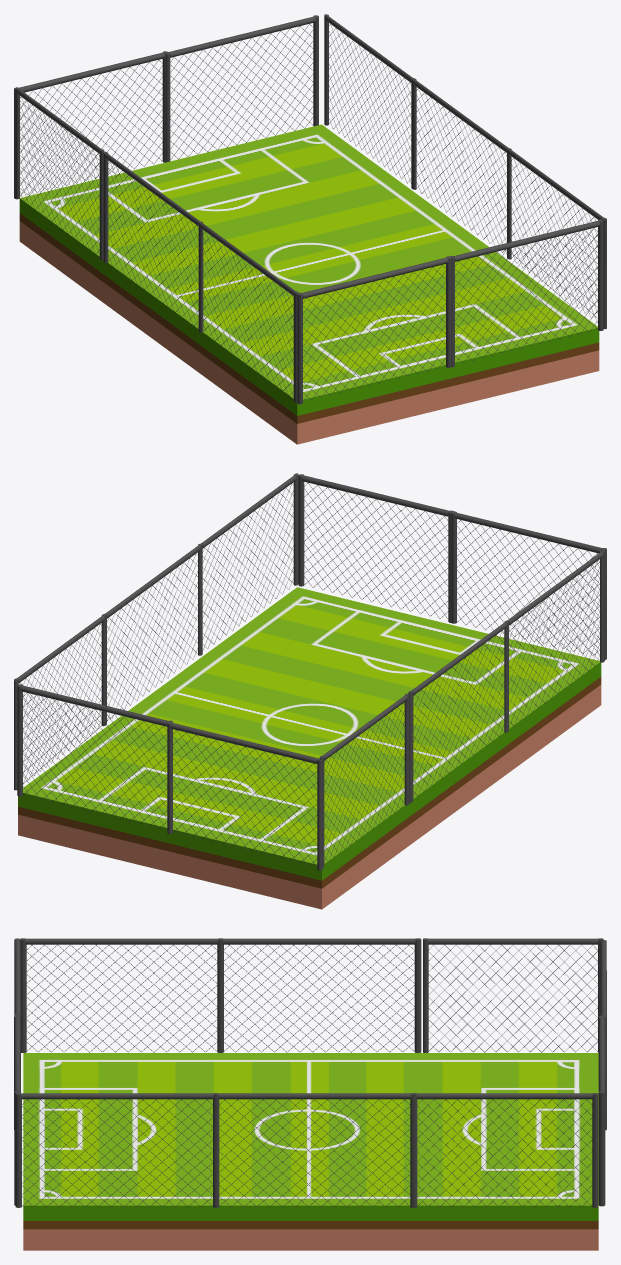
The model's file is field1.glb.
3 views of the same model, one above another, from view 1: azimuth 30°, elevation 25°; view 2: azimuth 150°, elevation 25°; view 3: azimuth 270°, elevation 25° (orthographic). The views are drawn at different scales.
Visible parts, largest first — view 1: Cube, Null_2_1__0.004, Null_2_1__0.002, Null_2_1__0.003, Null_2_1__0.005, Null_0_1__0.001, Null_2_1__0.001, Null_1_1__0.001, Null_1_1, Null_2_1, Null_0_1; view 2: Cube, Null_2_1__0.005, Null_2_1__0.003, Null_2_1__0.002, Null_2_1__0.004, Null_1_1__0.001, Null_0_1, Null_0_1__0.001, Null_1_1, Null_2_1__0.001, Null_2_1; view 3: Cube, Null_1_1__0.001, Null_0_1, Null_0_1__0.001, Null_1_1, Null_2_1, Null_2_1__0.001, Null_2_1__0.002, Null_2_1__0.003, Null_2_1__0.005, Null_2_1__0.004.
Part boxes in pixels (x1=…): Cube: x1=19, y1=124, x2=599, y2=444; Null_2_1__0.004: x1=297, y1=256, x2=451, y2=404; Null_2_1__0.002: x1=165, y1=15, x2=318, y2=162; Null_2_1__0.003: x1=450, y1=219, x2=603, y2=367; Null_2_1__0.005: x1=14, y1=51, x2=167, y2=199; Null_0_1__0.001: x1=199, y1=221, x2=298, y2=402; Null_2_1__0.001: x1=15, y1=87, x2=104, y2=260; Null_1_1__0.001: x1=103, y1=151, x2=202, y2=331; Null_1_1: x1=412, y1=78, x2=511, y2=258; Null_2_1: x1=324, y1=14, x2=415, y2=188; Null_0_1: x1=507, y1=148, x2=606, y2=329; Cube: x1=18, y1=587, x2=601, y2=909; Null_2_1__0.005: x1=167, y1=722, x2=322, y2=870; Null_2_1__0.003: x1=298, y1=474, x2=453, y2=622; Null_2_1__0.002: x1=17, y1=684, x2=172, y2=829; Null_2_1__0.004: x1=451, y1=511, x2=606, y2=659; Null_1_1__0.001: x1=408, y1=620, x2=508, y2=802; Null_0_1: x1=198, y1=473, x2=298, y2=654; Null_0_1__0.001: x1=505, y1=550, x2=604, y2=731; Null_1_1: x1=102, y1=544, x2=202, y2=724; Null_2_1__0.001: x1=319, y1=693, x2=409, y2=867; Null_2_1: x1=14, y1=614, x2=106, y2=790; Cube: x1=23, y1=1053, x2=598, y2=1250; Null_1_1__0.001: x1=219, y1=938, x2=421, y2=1052; Null_0_1: x1=15, y1=1093, x2=218, y2=1207; Null_0_1__0.001: x1=20, y1=938, x2=222, y2=1052; Null_1_1: x1=214, y1=1093, x2=415, y2=1207; Null_2_1: x1=412, y1=1093, x2=598, y2=1207; Null_2_1__0.001: x1=423, y1=938, x2=603, y2=1052; Null_2_1__0.002: x1=598, y1=1015, x2=605, y2=1206; Null_2_1__0.003: x1=14, y1=1016, x2=20, y2=1205; Null_2_1__0.005: x1=600, y1=940, x2=606, y2=1130; Null_2_1__0.004: x1=14, y1=938, x2=20, y2=1092.
Size of the model in its own units: 273 by 129 by 437.
6 materials, 2 textured.
